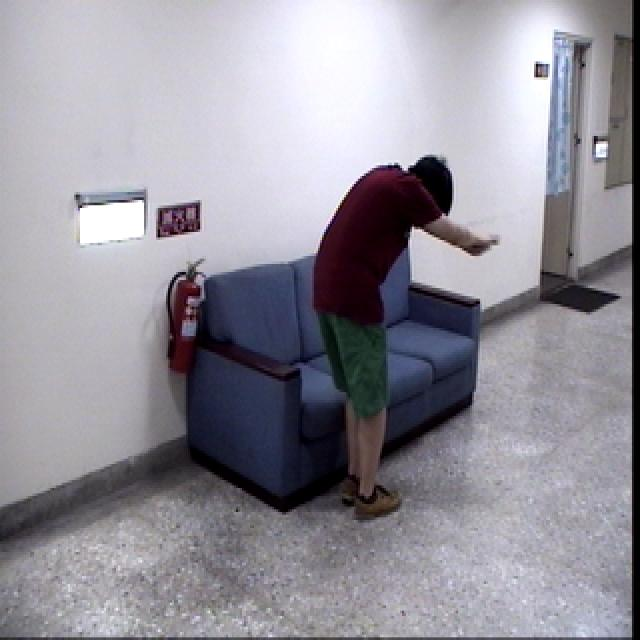bend: (302, 150, 504, 526)
